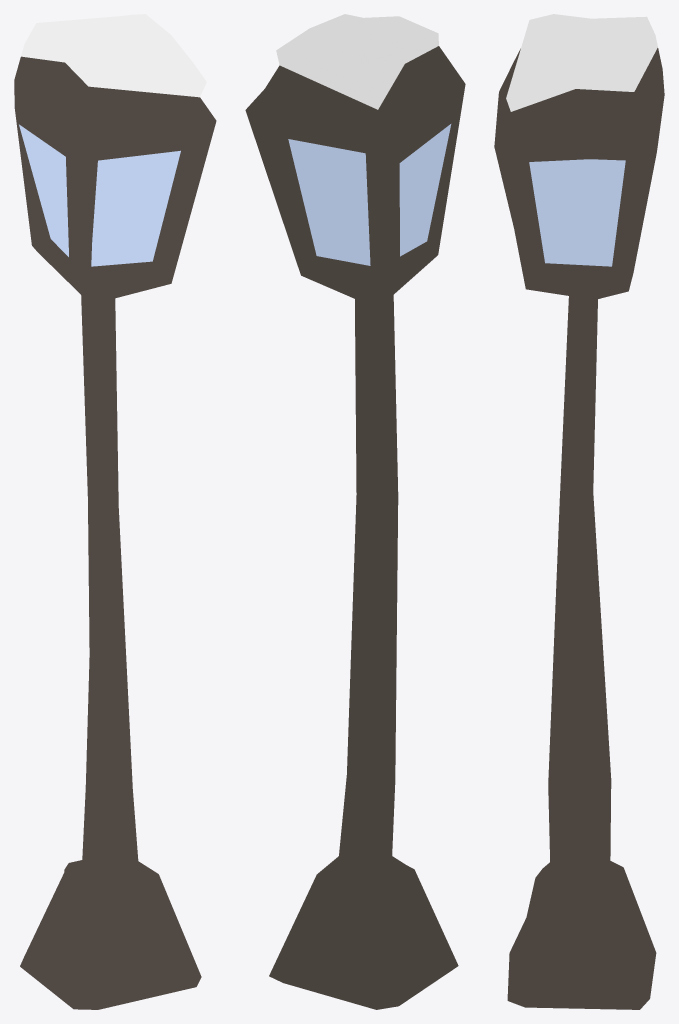
The model's file is streetlamp_01.dae.
3 views of the same model, side by side, from view 1: azimuth 30°, elevation 25°; view 2: azimuth 150°, elevation 25°; view 3: azimuth 270°, elevation 25° (orthographic).
Parts seen in each view (by area): view 1: streetlamp_01-0; view 2: streetlamp_01-0; view 3: streetlamp_01-0.
Boxes of the visible parts, left/top/right/bottom form: streetlamp_01-0: left=14, top=14, right=216, bottom=1009; streetlamp_01-0: left=245, top=14, right=465, bottom=1009; streetlamp_01-0: left=494, top=14, right=664, bottom=1009.
Size of the model in its own units: 0.9079 by 5.44 by 0.8814.
